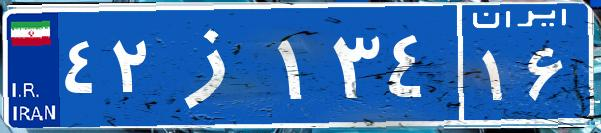1: (273, 28, 330, 110), (475, 38, 525, 113)
2: (110, 28, 158, 105)
3: (330, 28, 385, 110)
4: (385, 28, 445, 110), (57, 26, 110, 107)
6: (525, 38, 570, 115)
ز: (158, 15, 273, 115)
